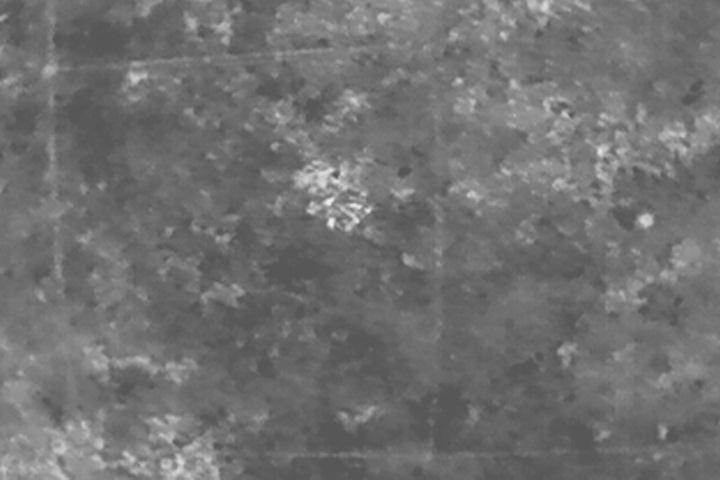landmine: (291, 155, 373, 233)
